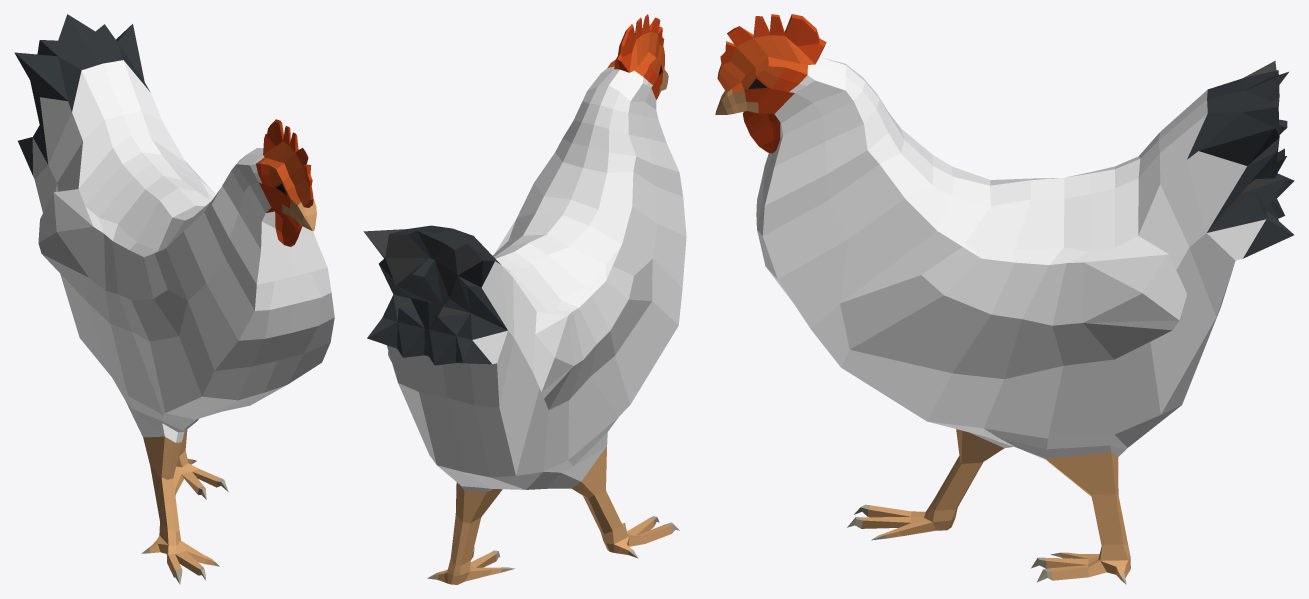
File: gallina.glb
3 renders of one model, left to right at view 1: azimuth 30°, elevation 25°; view 2: azimuth 150°, elevation 25°; view 3: azimuth 270°, elevation 25°, orthographic. The views are drawn at different scales.
Parts seen in each view (by area): view 1: Vert_1; view 2: Vert_1; view 3: Vert_1.
Part boxes in pixels (box(x1,y1,x2,y2)): Vert_1: box(14, 14, 334, 584); Vert_1: box(363, 14, 686, 584); Vert_1: box(715, 14, 1294, 584).
Size of the model in its own units: 0.4303 by 1.26 by 1.21.
1 material, 1 textured.
